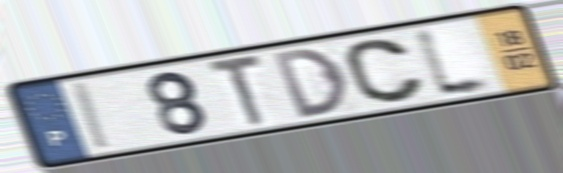8: (145, 68, 212, 137)
C: (341, 36, 429, 106)
D: (268, 45, 352, 121)
I: (71, 79, 116, 154)
L: (409, 21, 502, 102)
T: (204, 51, 270, 131)
